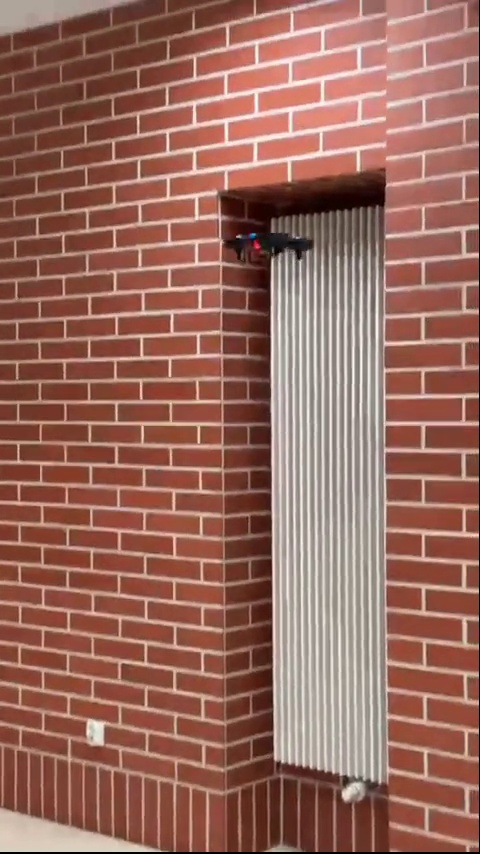drone: (217, 216, 320, 266)
